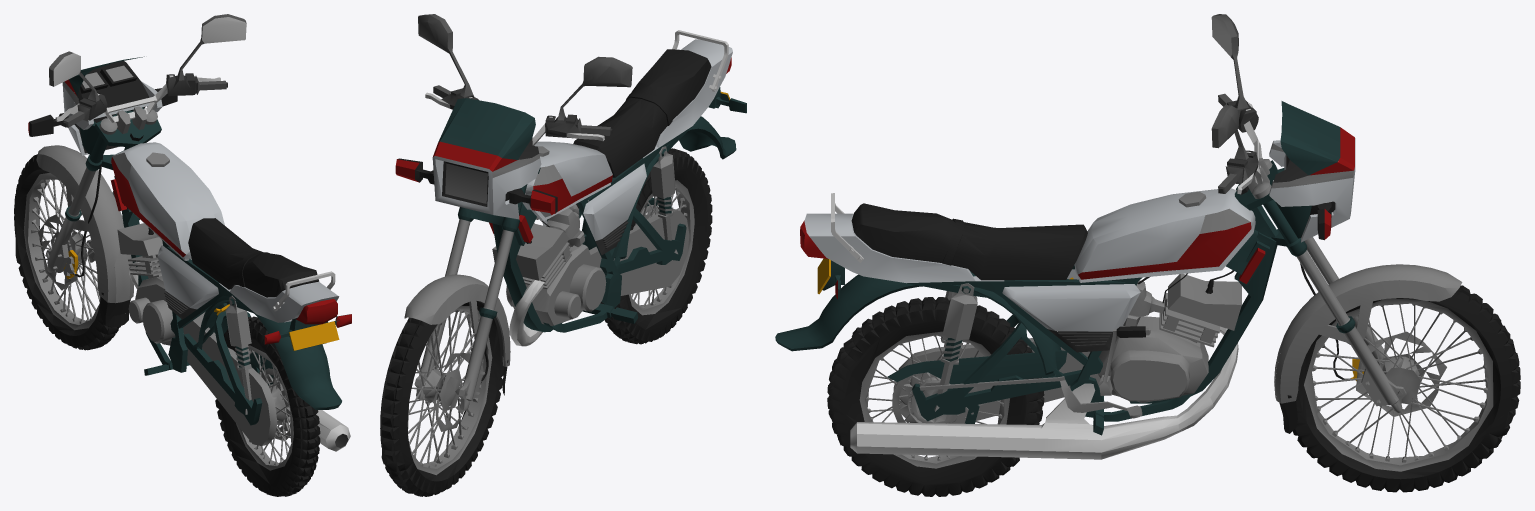
File: moto_2t.glb
3 views of the same model, side by side, from view 1: azimuth 30°, elevation 25°; view 2: azimuth 150°, elevation 25°; view 3: azimuth 270°, elevation 25° (orthographic). The views are drawn at different scales.
Visible parts, largest first — view 1: carroceria_detalle, carroceria_pintura, horquilla_del_detalle, rueda_tras_detalle, rueda_del_detalle, carroceria_stop; view 2: carroceria_detalle, rueda_del_detalle, carroceria_pintura, horquilla_del_detalle, rueda_tras_detalle, carroceria_stop; view 3: carroceria_detalle, carroceria_pintura, rueda_del_detalle, rueda_tras_detalle, horquilla_del_detalle, carroceria_stop.
Part boxes in pixels (<box>): carroceria_detalle: <box>29,14,351,465</box>; carroceria_pintura: <box>63,81,339,322</box>; horquilla_del_detalle: <box>31,145,133,325</box>; rueda_tras_detalle: <box>215,316,320,496</box>; rueda_del_detalle: <box>14,154,120,350</box>; carroceria_stop: <box>28,79,351,344</box>; carroceria_detalle: <box>397,14,746,365</box>; rueda_del_detalle: <box>380,301,503,496</box>; carroceria_pintura: <box>432,39,732,240</box>; horquilla_del_detalle: <box>404,274,510,467</box>; rueda_tras_detalle: <box>600,148,712,344</box>; carroceria_stop: <box>395,57,731,242</box>; carroceria_detalle: <box>775,14,1353,460</box>; carroceria_pintura: <box>804,138,1355,331</box>; rueda_del_detalle: <box>1292,285,1520,492</box>; rueda_tras_detalle: <box>827,297,1044,496</box>; horquilla_del_detalle: <box>1275,264,1488,462</box>; carroceria_stop: <box>800,127,1354,299</box>.
Size of the model in its own units: 0.7022 by 1.24 by 1.95.
